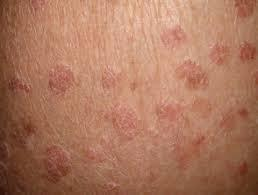flat_wart: (40, 144, 77, 185), (47, 59, 77, 100), (15, 67, 33, 108)
